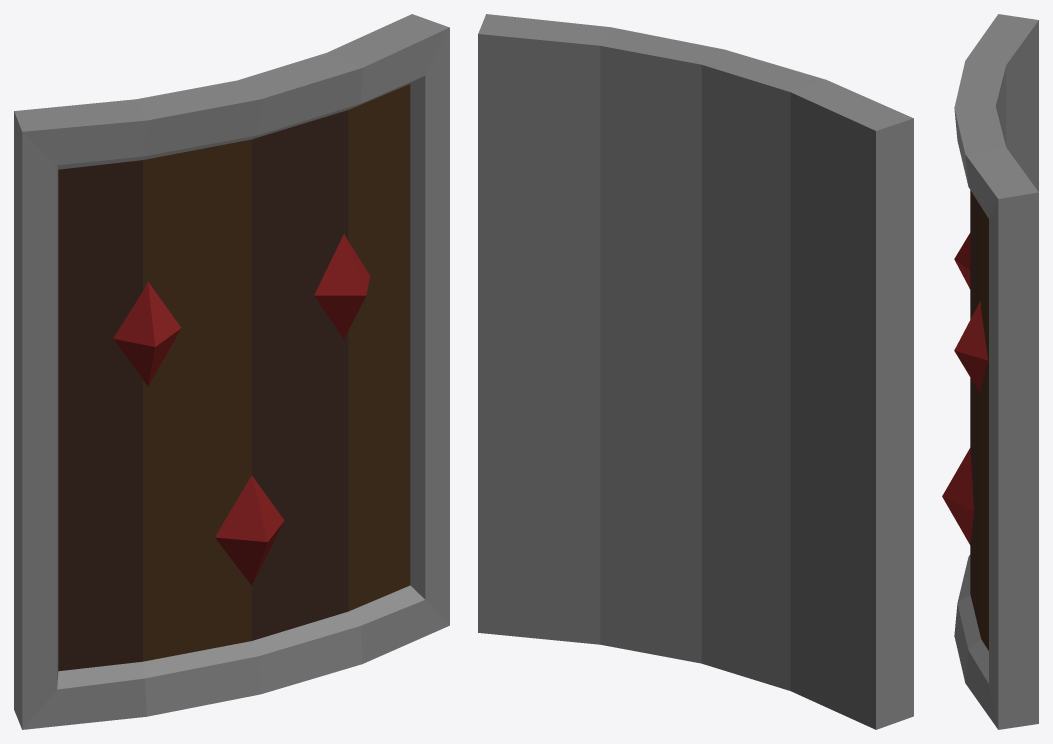
The picture shows the model from 3 angles, left to right: view 1: azimuth 30°, elevation 25°; view 2: azimuth 150°, elevation 25°; view 3: azimuth 270°, elevation 25°; orthographic projection. The views are drawn at different scales.
Parts seen in each view (by area): view 1: Shield5; view 2: Shield5; view 3: Shield5.
Part boxes in pixels (bbox=[...]): Shield5: bbox=[14, 14, 449, 729]; Shield5: bbox=[478, 14, 913, 729]; Shield5: bbox=[942, 14, 1038, 729].
Size of the model in its own units: 50.53 by 11.17 by 67.63.
1 material, 1 textured.
